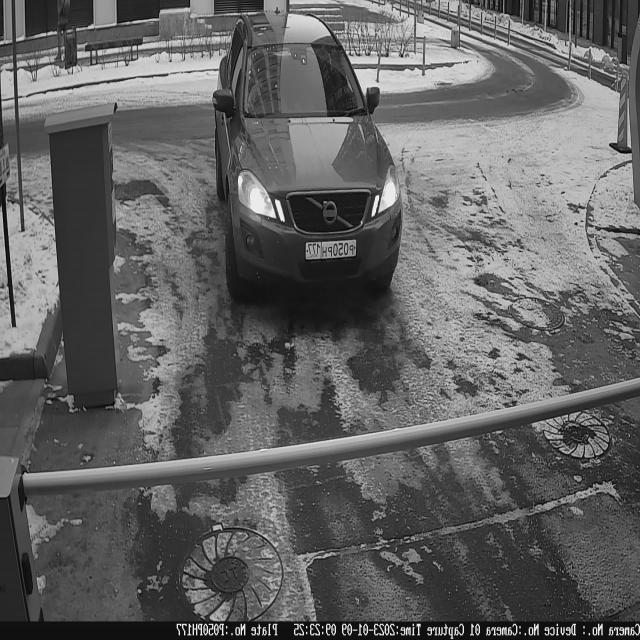car-plate-numbers: (302, 235, 360, 271)
